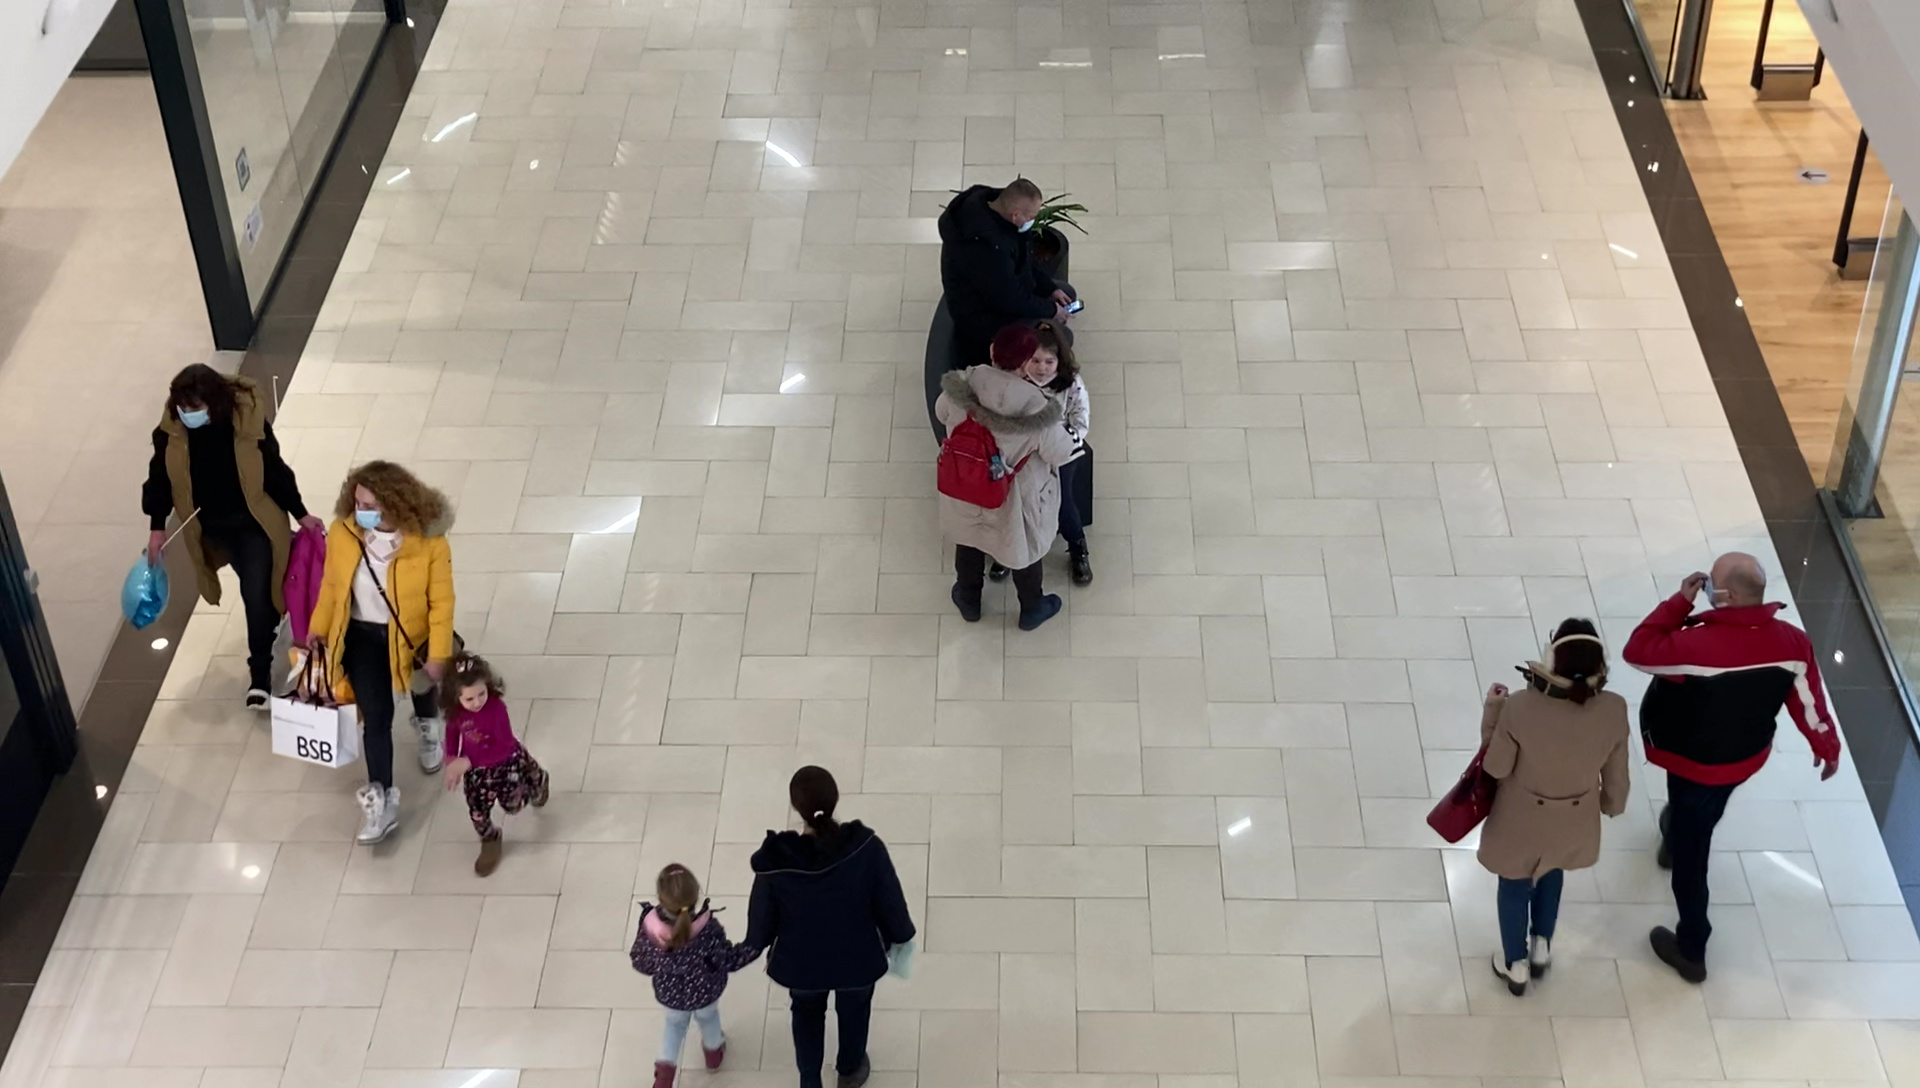person: (1621, 551, 1840, 985), (1479, 619, 1631, 999), (143, 363, 301, 708), (752, 764, 916, 1088), (629, 863, 748, 1088), (438, 657, 554, 876)
